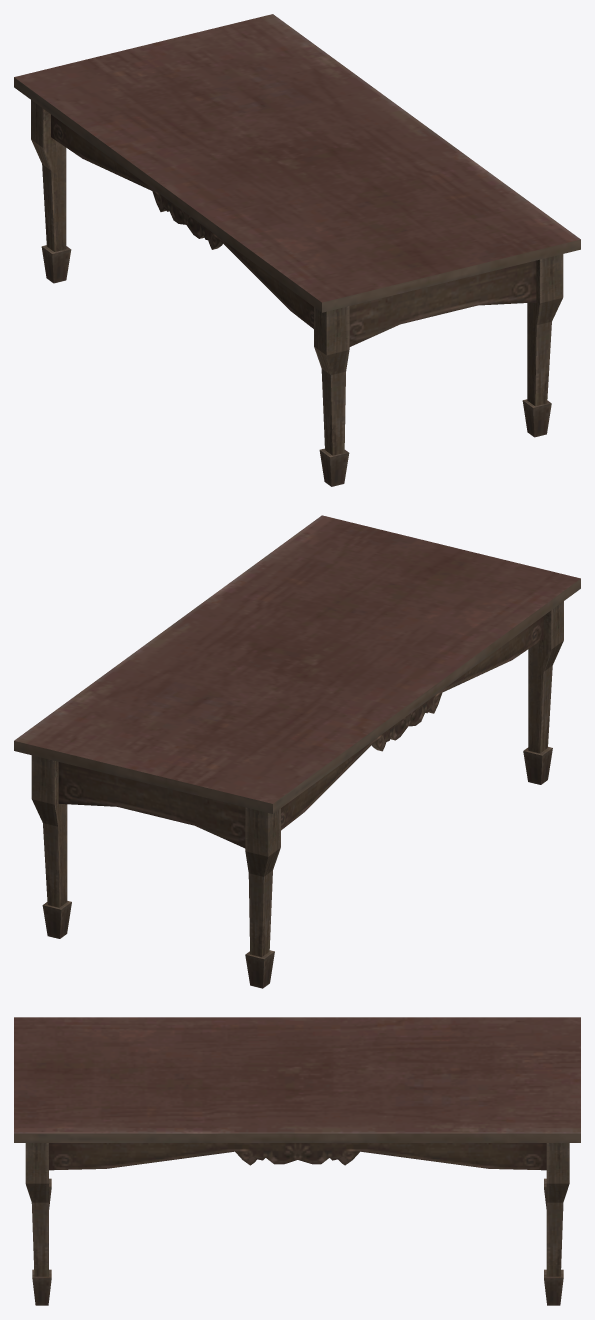
Rendered from bg_lut_lucastle_table07_sm_artree.FBX.
The picture shows the model from 3 angles, top to bottom: view 1: azimuth 30°, elevation 25°; view 2: azimuth 150°, elevation 25°; view 3: azimuth 270°, elevation 25°; orthographic projection. The views are drawn at different scales.
Visible parts, largest first — view 1: bg_lut_lucastle_table07_sm_artree; view 2: bg_lut_lucastle_table07_sm_artree; view 3: bg_lut_lucastle_table07_sm_artree.
Part boxes in pixels (left/top/right/bottom): bg_lut_lucastle_table07_sm_artree: left=14, top=14, right=580, bottom=486; bg_lut_lucastle_table07_sm_artree: left=14, top=515, right=580, bottom=988; bg_lut_lucastle_table07_sm_artree: left=14, top=1017, right=580, bottom=1305.
Size of the model in its own units: 76.21 by 55.72 by 157.
